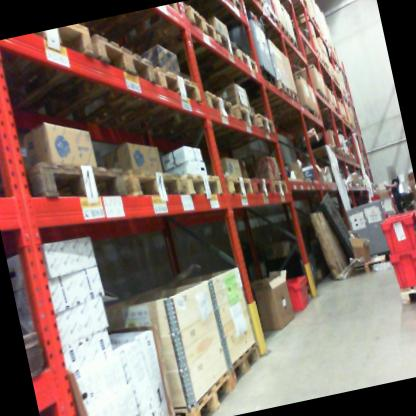pallet: (47, 25, 160, 127), (0, 145, 129, 233), (0, 25, 100, 110), (118, 59, 207, 143), (153, 1, 220, 67), (168, 369, 239, 416), (126, 158, 186, 210), (200, 82, 237, 125), (222, 345, 264, 382), (183, 170, 220, 202), (348, 250, 388, 276), (223, 170, 255, 202), (232, 100, 261, 135), (235, 41, 259, 80), (215, 28, 238, 62), (267, 79, 292, 109), (250, 174, 274, 202), (255, 107, 273, 136), (399, 280, 416, 307), (270, 177, 289, 200), (226, 0, 242, 17), (285, 90, 299, 109)
small_load_carrier: (379, 207, 416, 260), (387, 247, 416, 292), (284, 272, 315, 314)
